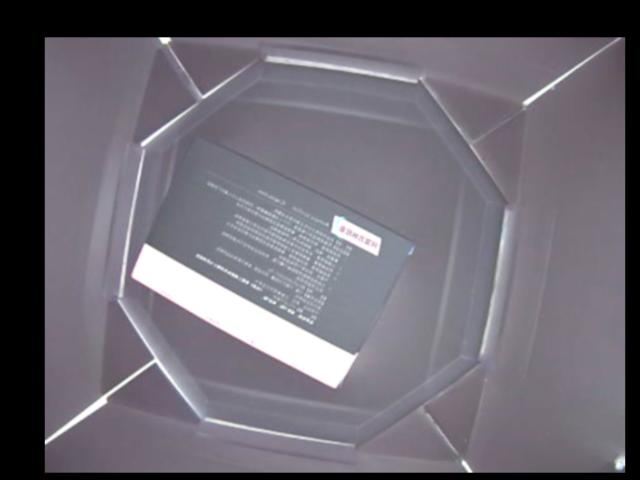Medicine: (130, 135, 413, 387)
